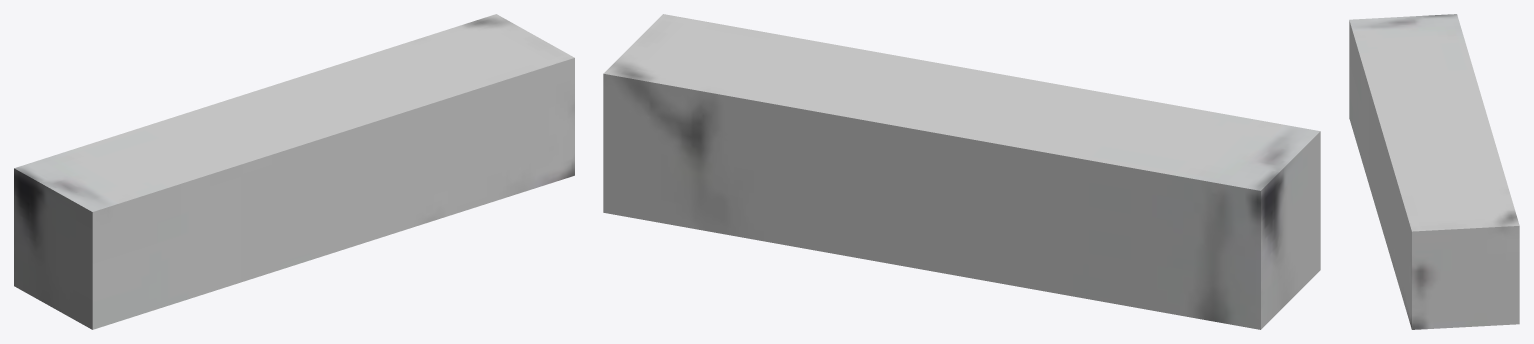
The model's file is frame__wheel_fork_strut_1.glb.
3 renders of one model, left to right at view 1: azimuth 30°, elevation 25°; view 2: azimuth 150°, elevation 25°; view 3: azimuth 270°, elevation 25°, orthographic. The views are drawn at different scales.
Parts seen in each view (by area): view 1: world; view 2: world; view 3: world.
Boxes of the visible parts, x1=… form: world: x1=14, y1=14, x2=574, y2=329; world: x1=603, y1=14, x2=1320, y2=329; world: x1=1349, y1=14, x2=1519, y2=329.
Bounding box in the file's own units: 0.1232 × 0.026 × 0.0408.
1 material, 1 textured.
